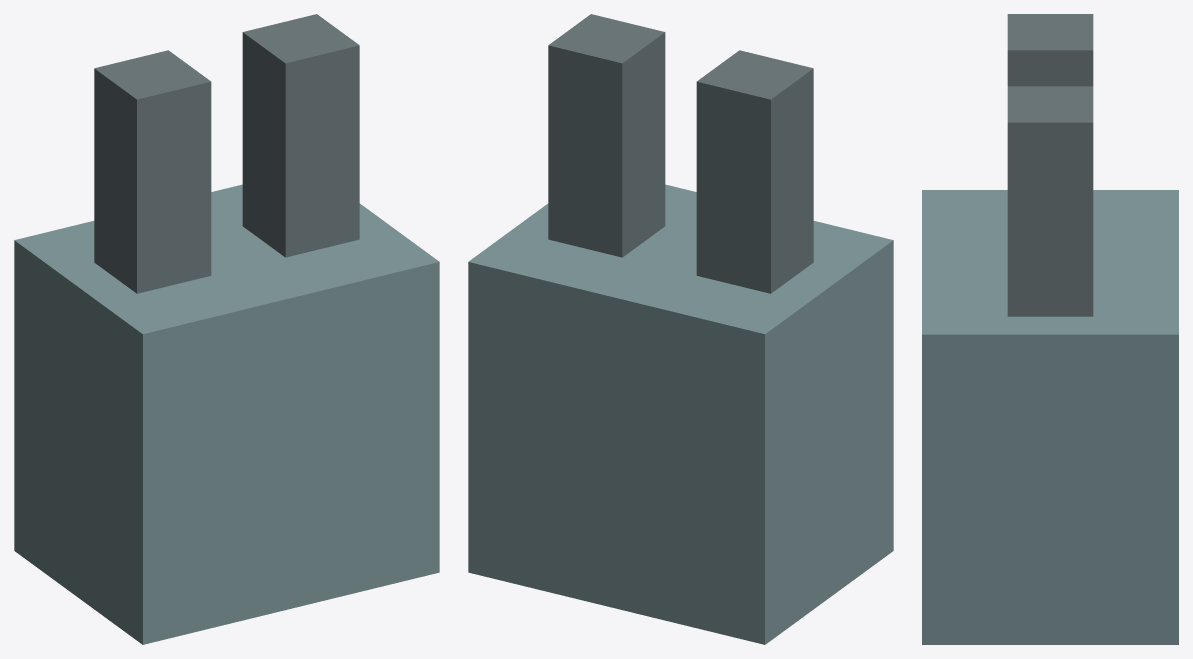
The model's file is iot-09.glb.
3 renders of one model, left to right at view 1: azimuth 30°, elevation 25°; view 2: azimuth 150°, elevation 25°; view 3: azimuth 270°, elevation 25°, orthographic.
Parts seen in each view (by area): view 1: Smart plug; view 2: Smart plug; view 3: Smart plug.
Part boxes in pixels (<box>): Smart plug: <box>14,14,439,644</box>; Smart plug: <box>468,14,893,644</box>; Smart plug: <box>922,14,1178,644</box>.
Size of the model in its own units: 0.64 by 1.04 by 0.48.
